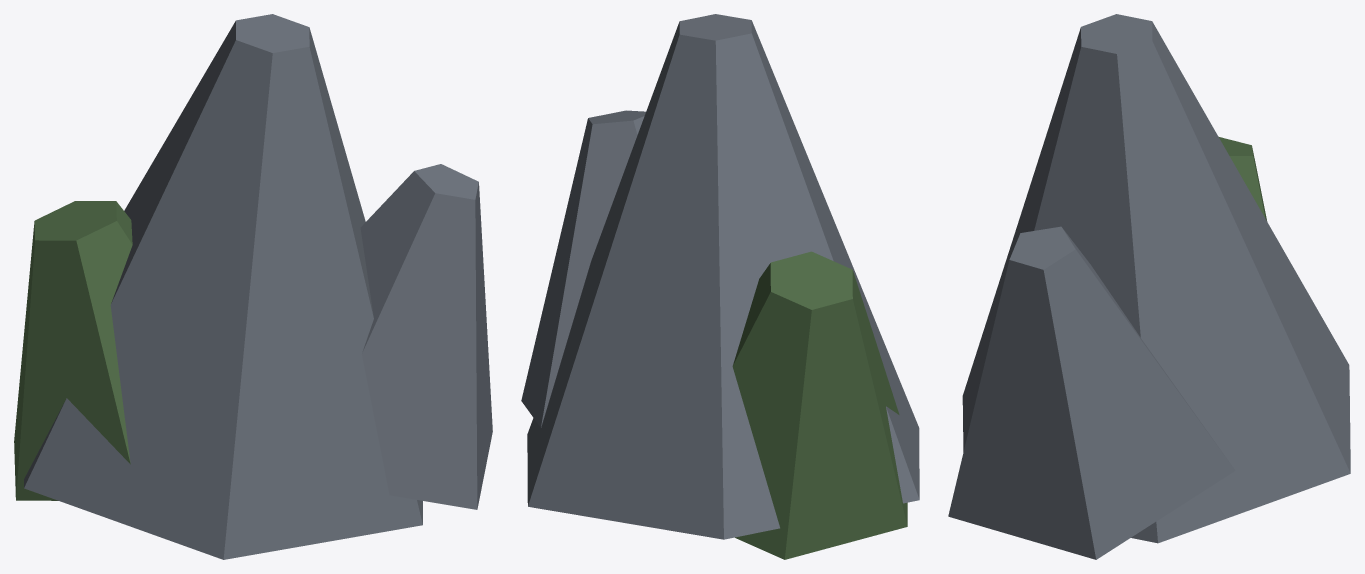
The model's file is rock_spire.glb.
3 renders of one model, left to right at view 1: azimuth 30°, elevation 25°; view 2: azimuth 150°, elevation 25°; view 3: azimuth 270°, elevation 25°, orthographic. The views are drawn at different scales.
Parts seen in each view (by area): view 1: rock_spire; view 2: rock_spire; view 3: rock_spire.
Part boxes in pixels (<box>): rock_spire: <box>14,14,492,559</box>; rock_spire: <box>521,14,919,559</box>; rock_spire: <box>948,14,1350,559</box>.
Bounding box in the file's own units: 1.66 × 1.65 × 1.37.
